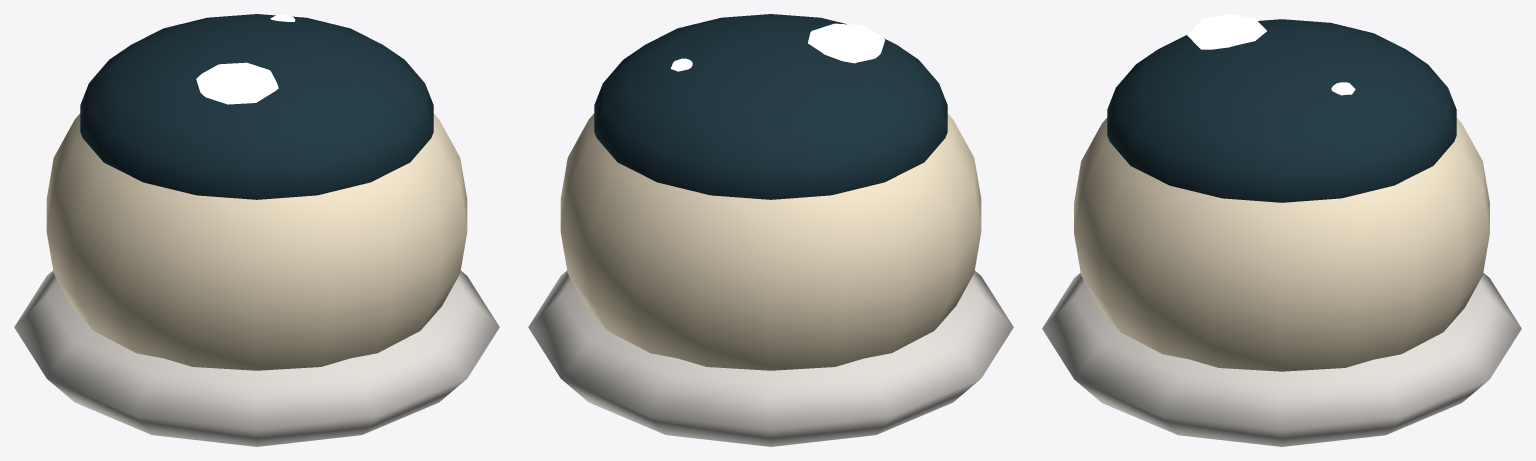
The model's file is part_eye_bead.glb.
3 renders of one model, left to right at view 1: azimuth 30°, elevation 25°; view 2: azimuth 150°, elevation 25°; view 3: azimuth 270°, elevation 25°, orthographic.
Visible parts, largest first — view 1: part_eye_bead_painted_mesh; view 2: part_eye_bead_painted_mesh; view 3: part_eye_bead_painted_mesh.
Boxes of the visible parts, x1=… form: part_eye_bead_painted_mesh: x1=14, y1=14, x2=499, y2=446; part_eye_bead_painted_mesh: x1=528, y1=14, x2=1013, y2=446; part_eye_bead_painted_mesh: x1=1042, y1=14, x2=1521, y2=446.
Size of the model in its own units: 0.5 by 0.395 by 0.5.
